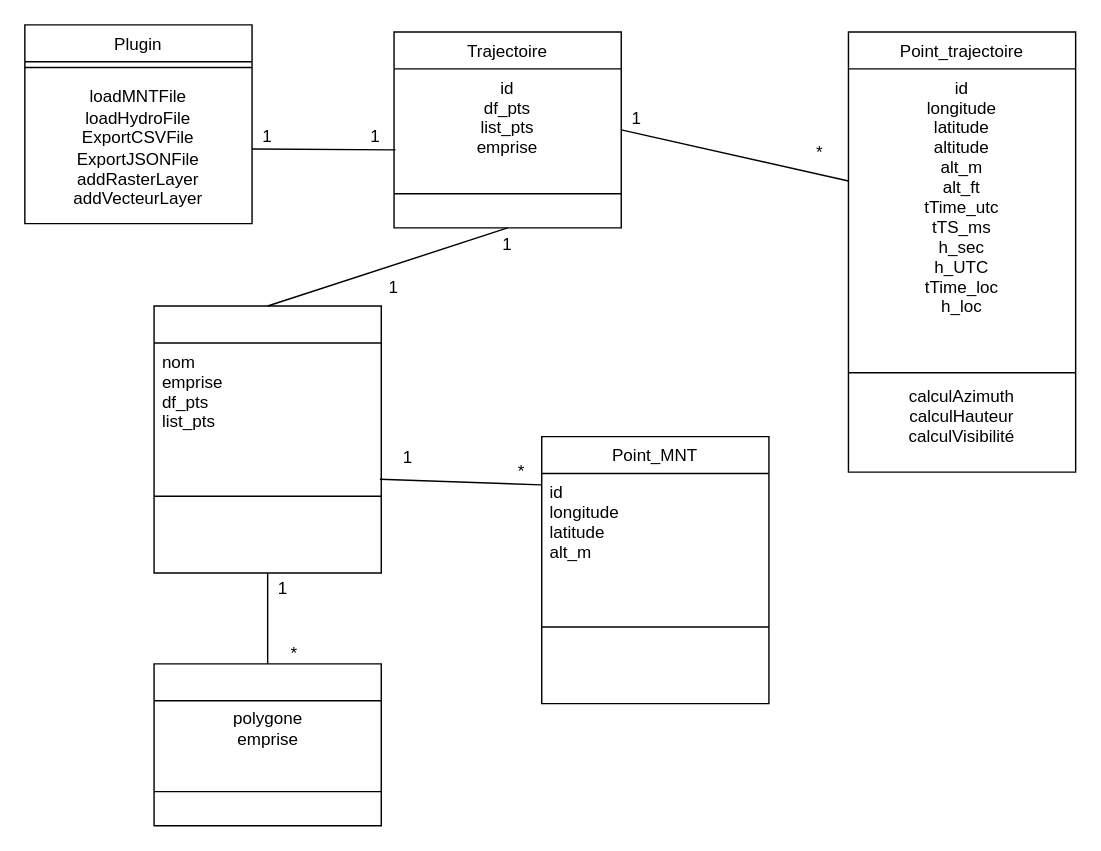
Some shapes in this 1101 by 851 pixel diagram are drawn without their labels. The box of each missing label's shape, as (x1, y1, x2, y2) in pixels:
MNT: (153, 305, 381, 573)
Surface_hydro: (153, 662, 381, 826)
